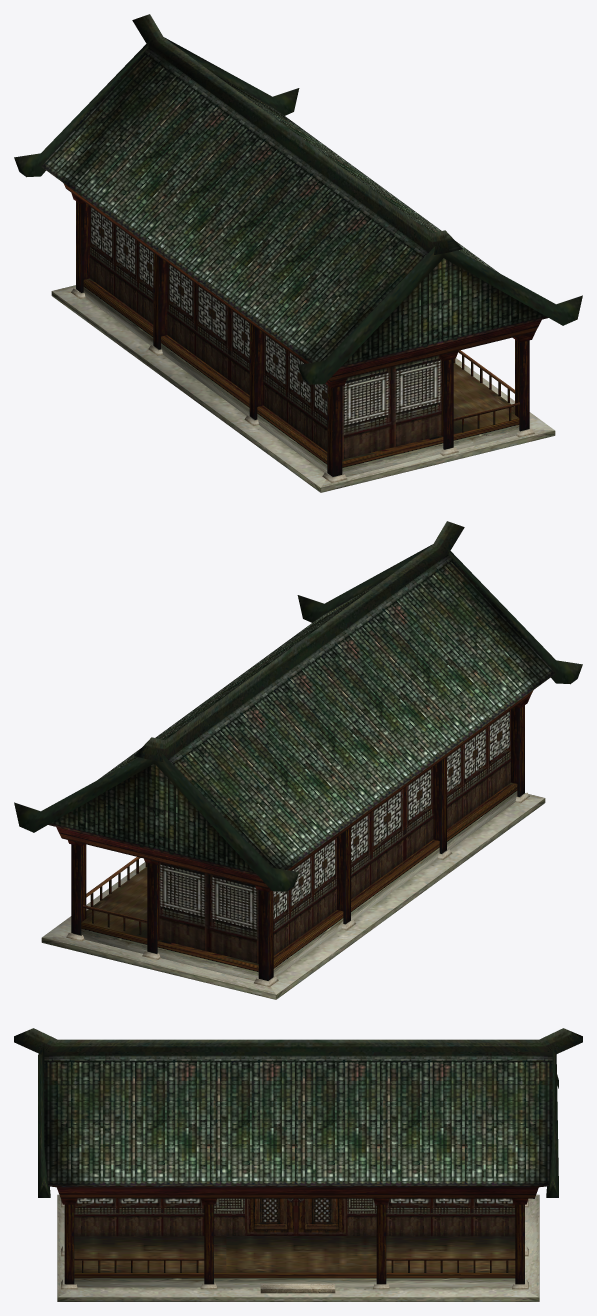
Rendered from c1-033-guesthouse-02_lod_01.glb.
The picture shows the model from 3 angles, top to bottom: view 1: azimuth 30°, elevation 25°; view 2: azimuth 150°, elevation 25°; view 3: azimuth 270°, elevation 25°; orthographic projection. The views are drawn at different scales.
Visible parts, largest first — view 1: c1-033-guesthouse-01, c1-033-guesthouse-02; view 2: c1-033-guesthouse-01, c1-033-guesthouse-02; view 3: c1-033-guesthouse-01, c1-033-guesthouse-02.
Part boxes in pixels (box(x1,y1,x2,y2)): c1-033-guesthouse-01: box(14, 14, 582, 483); c1-033-guesthouse-02: box(51, 201, 555, 492); c1-033-guesthouse-01: box(14, 521, 582, 987); c1-033-guesthouse-02: box(41, 705, 545, 999); c1-033-guesthouse-01: box(14, 1028, 582, 1293); c1-033-guesthouse-02: box(57, 1194, 539, 1301).
Bounding box in the file's own units: 14.1 × 11.57 × 27.14.
Materials: 2 (2 with a texture image).
